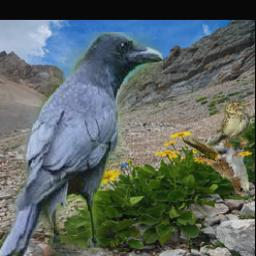Crow: (0, 32, 164, 256)
Cuckoo: (182, 138, 255, 198)
Sparrow: (209, 101, 250, 149)
